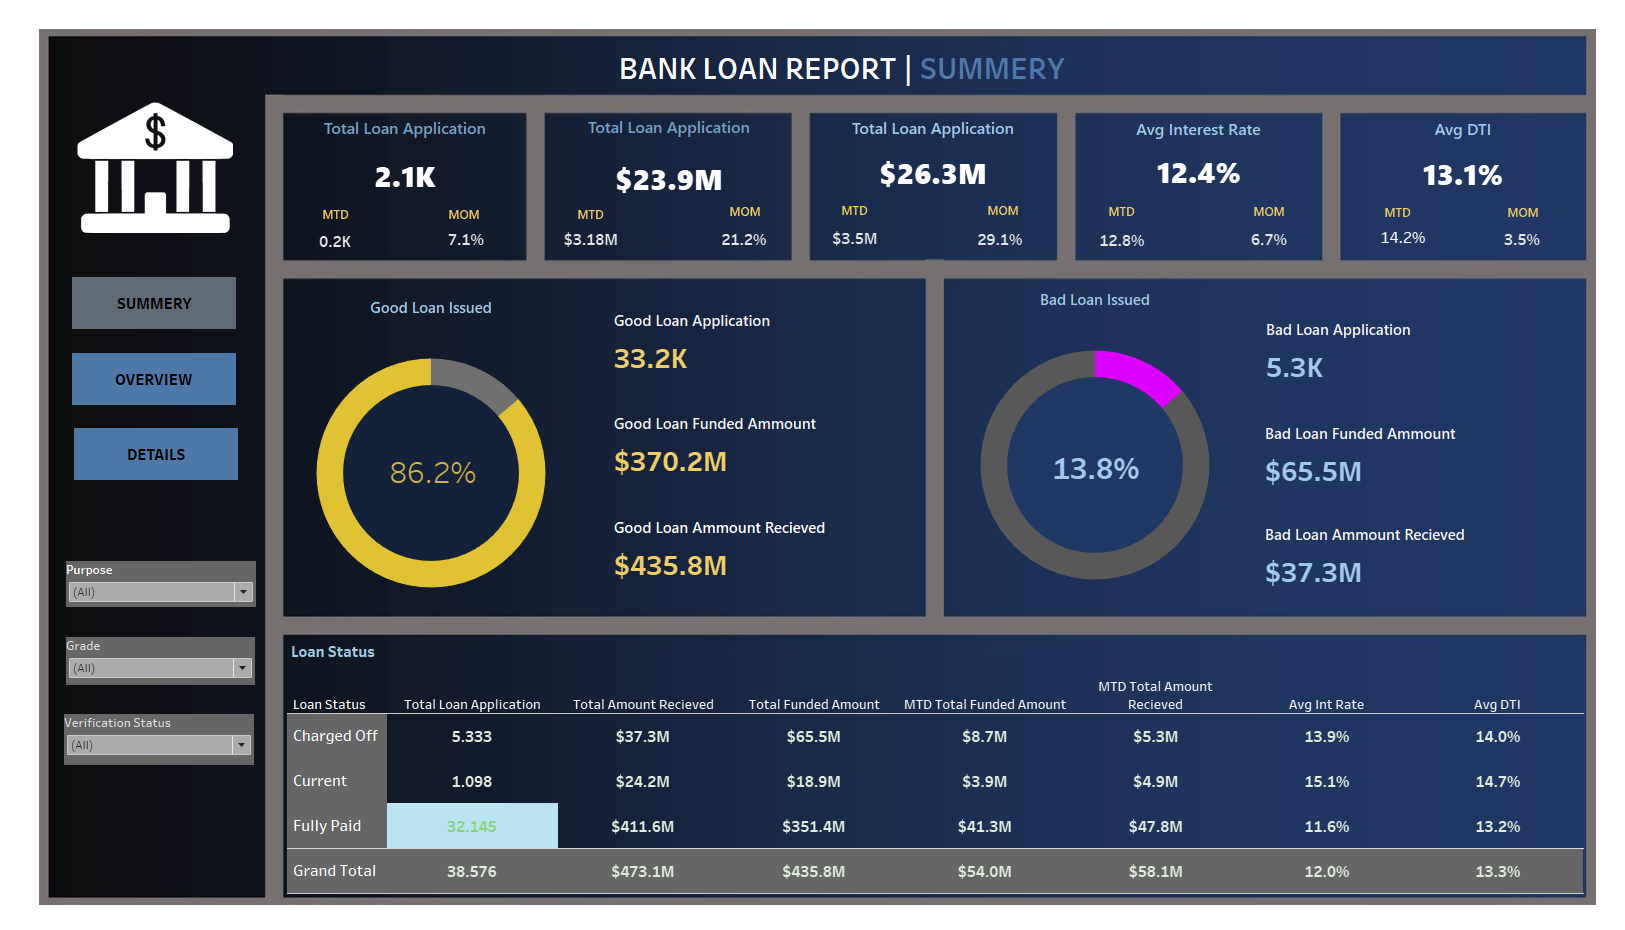

The dashboard page shown, as its layout file describes it:
{"tool":"tableau","page":{"name":"SUMMERY","canvas":[1600,900],"ordinal":2},"visuals":[{"type":"image","param":"H:/Project/Data Analyst/Tableau/Tableau Background 1.jpg","box":[8,8,1584,884]},{"type":"text","box":[598,30,452,40]},{"type":"image","param":"H:/Project/Data Analyst/Tableau/Bank-Sign-PNG-Images.png","box":[59,85,156,220]},{"type":"worksheet","title":"Total Funded Amount","mark":"Automatic","box":[530,95,242,94]},{"type":"worksheet","title":"Total Loan Application","mark":"Automatic","box":[265,96,244,86]},{"type":"worksheet","title":"Total Amount Recieved","mark":"Automatic","box":[792,96,246,81]},{"type":"worksheet","title":"Avg Interest Rate","mark":"Automatic","box":[1058,97,245,77]},{"type":"worksheet","title":"Avg DTI","mark":"Automatic","box":[1323,97,244,80]},{"type":"text","box":[803,178,67,30]},{"type":"text","box":[935,178,100,30]},{"type":"text","box":[677,179,100,30]},{"type":"text","box":[1070,179,67,30]},{"type":"text","box":[1201,179,100,30]},{"type":"text","box":[1346,180,67,30]},{"type":"text","box":[1455,180,100,30]},{"type":"text","box":[284,182,67,30]},{"type":"text","box":[396,182,100,30]},{"type":"text","box":[539,182,67,30]},{"type":"worksheet","title":"MTD Avg DTI","mark":"Automatic","box":[1338,200,94,40]},{"type":"worksheet","title":"MTD Total Funded Amount","mark":"Automatic","box":[532,201,81,42]},{"type":"worksheet","title":"MoM Total Funded Amount","mark":"Automatic","box":[680,201,91,41]},{"type":"worksheet","title":"MTD Total Amount Recieved","mark":"Automatic","box":[796,201,81,40]},{"type":"worksheet","title":"MoM Total Loan Applications","mark":"Automatic","box":[413,203,70,38]},{"type":"worksheet","title":"MoM Avg INT Rate","mark":"Automatic","box":[1202,203,97,38]},{"type":"worksheet","title":"MTD Total Loan Applications","mark":"Automatic","box":[281,204,72,39]},{"type":"worksheet","title":"MoM Avg DTI","mark":"Automatic","box":[1457,204,93,36]},{"type":"worksheet","title":"MoM Total Amount Recieved","mark":"Automatic","box":[934,205,96,33]},{"type":"worksheet","title":"MTD Avg INT Rate","mark":"Automatic","box":[1056,205,95,36]},{"type":"dashboard-object","box":[54,260,164,52]},{"type":"worksheet","title":"Bad Loan Issued","mark":"Pie","rows":["Calculation_1322088018479828998","Calculation_1322088018479828998"],"box":[927,268,300,325]},{"type":"worksheet","title":"Good Loan Issued","mark":"Pie","rows":["Calculation_1322088018479828998","Calculation_1322088018479828998"],"box":[263,276,300,325]},{"type":"worksheet","title":"Good Loan Application","mark":"Automatic","box":[588,285,300,75]},{"type":"worksheet","title":"Bad Loan Application","mark":"Automatic","box":[1240,294,300,75]},{"type":"dashboard-object","box":[54,336,164,52]},{"type":"worksheet","title":"Good Loan Funded Ammount","mark":"Automatic","box":[588,388,300,75]},{"type":"worksheet","title":"Bad Loan Funded Ammount","mark":"Automatic","box":[1239,398,300,75]},{"type":"dashboard-object","box":[56,411,164,52]},{"type":"worksheet","title":"Bad Loan %","mark":"Automatic","box":[1010,418,135,64]},{"type":"worksheet","title":"Good Loan Application %","mark":"Automatic","box":[342,422,145,63]},{"type":"worksheet","title":"Good Loan Ammount Recieved","mark":"Automatic","box":[588,492,300,75]},{"type":"worksheet","title":"Bad Loan Ammount Recieved","mark":"Automatic","box":[1239,499,300,75]},{"type":"filter","title":"Good Loan Issued","param":"[federated.1yh2q4d1p6eods1fdrs3f1kuyx0a].[none:purpose:nk]","box":[48,544,190,46]},{"type":"filter","title":"Good Loan Issued","param":"[federated.1yh2q4d1p6eods1fdrs3f1kuyx0a].[none:grade:nk]","box":[48,620,189,48]},{"type":"worksheet","title":"Loan Status","mark":"Automatic","rows":["loan_status"],"box":[269,620,1297,257]},{"type":"filter","title":"Good Loan Issued","param":"[federated.1yh2q4d1p6eods1fdrs3f1kuyx0a].[none:verification_status:nk]","box":[46,697,190,51]}]}

Visuals, with their boxes in screenshot pixels (x1, y1, x2, y2), scaled from the page's 1600x900 canvas onto the 1625x930 screenshot:
image: l=8, t=8, r=1617, b=922
text: l=607, t=31, r=1066, b=72
image: l=60, t=88, r=218, b=315
"Total Funded Amount" worksheet: l=538, t=98, r=784, b=195
"Total Loan Application" worksheet: l=269, t=99, r=517, b=188
"Total Amount Recieved" worksheet: l=804, t=99, r=1054, b=183
"Avg Interest Rate" worksheet: l=1075, t=100, r=1323, b=180
"Avg DTI" worksheet: l=1344, t=100, r=1591, b=183
text: l=816, t=184, r=884, b=215
text: l=950, t=184, r=1051, b=215
text: l=688, t=185, r=789, b=216
text: l=1087, t=185, r=1155, b=216
text: l=1220, t=185, r=1321, b=216
text: l=1367, t=186, r=1435, b=217
text: l=1478, t=186, r=1579, b=217
text: l=288, t=188, r=356, b=219
text: l=402, t=188, r=504, b=219
text: l=547, t=188, r=615, b=219
"MTD Avg DTI" worksheet: l=1359, t=207, r=1454, b=248
"MTD Total Funded Amount" worksheet: l=540, t=208, r=623, b=251
"MoM Total Funded Amount" worksheet: l=691, t=208, r=783, b=250
"MTD Total Amount Recieved" worksheet: l=808, t=208, r=891, b=249
"MoM Total Loan Applications" worksheet: l=419, t=210, r=491, b=249
"MoM Avg INT Rate" worksheet: l=1221, t=210, r=1319, b=249
"MTD Total Loan Applications" worksheet: l=285, t=211, r=359, b=251
"MoM Avg DTI" worksheet: l=1480, t=211, r=1574, b=248
"MoM Total Amount Recieved" worksheet: l=949, t=212, r=1046, b=246
"MTD Avg INT Rate" worksheet: l=1072, t=212, r=1169, b=249
dashboard-object: l=55, t=269, r=221, b=322
"Bad Loan Issued" worksheet (Pie marks): l=941, t=277, r=1246, b=613
"Good Loan Issued" worksheet (Pie marks): l=267, t=285, r=572, b=621
"Good Loan Application" worksheet: l=597, t=295, r=902, b=372
"Bad Loan Application" worksheet: l=1259, t=304, r=1564, b=381
dashboard-object: l=55, t=347, r=221, b=401
"Good Loan Funded Ammount" worksheet: l=597, t=401, r=902, b=478
"Bad Loan Funded Ammount" worksheet: l=1258, t=411, r=1563, b=489
dashboard-object: l=57, t=425, r=223, b=478
"Bad Loan %" worksheet: l=1026, t=432, r=1163, b=498
"Good Loan Application %" worksheet: l=347, t=436, r=495, b=501
"Good Loan Ammount Recieved" worksheet: l=597, t=508, r=902, b=586
"Bad Loan Ammount Recieved" worksheet: l=1258, t=516, r=1563, b=593
"Good Loan Issued" filter: l=49, t=562, r=242, b=610
"Good Loan Issued" filter: l=49, t=641, r=241, b=690
"Loan Status" worksheet: l=273, t=641, r=1590, b=906
"Good Loan Issued" filter: l=47, t=720, r=240, b=773
